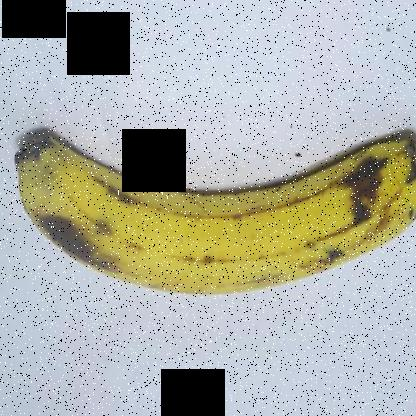ripe: (26, 115, 415, 313)
